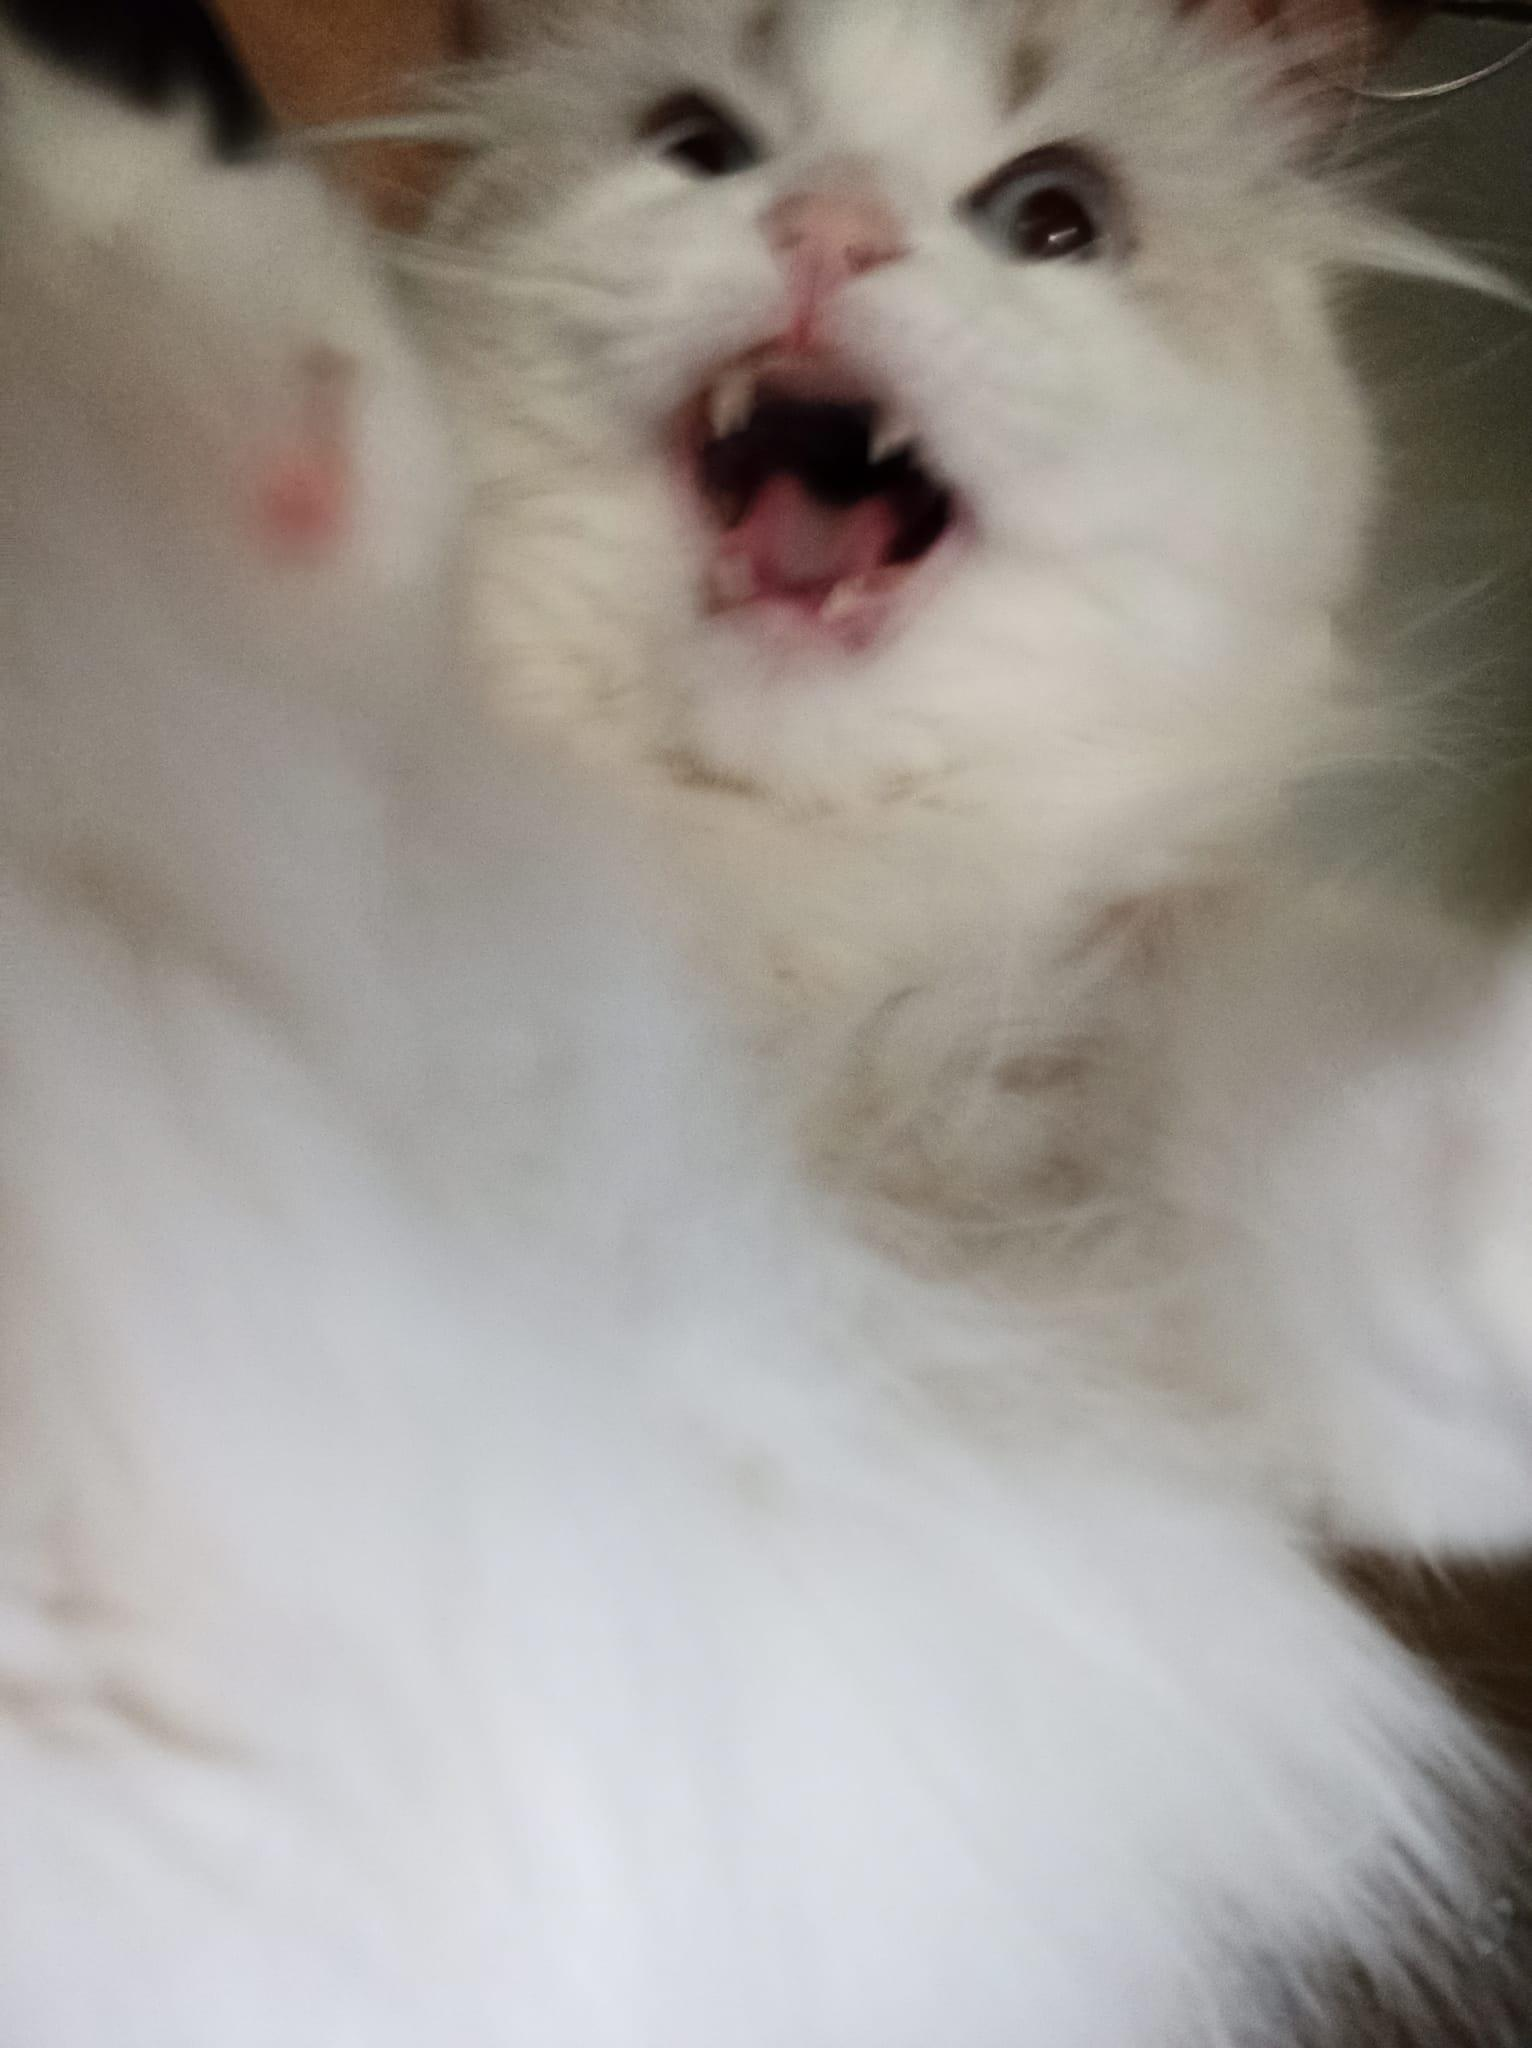kedo: (6, 0, 1526, 2025)
